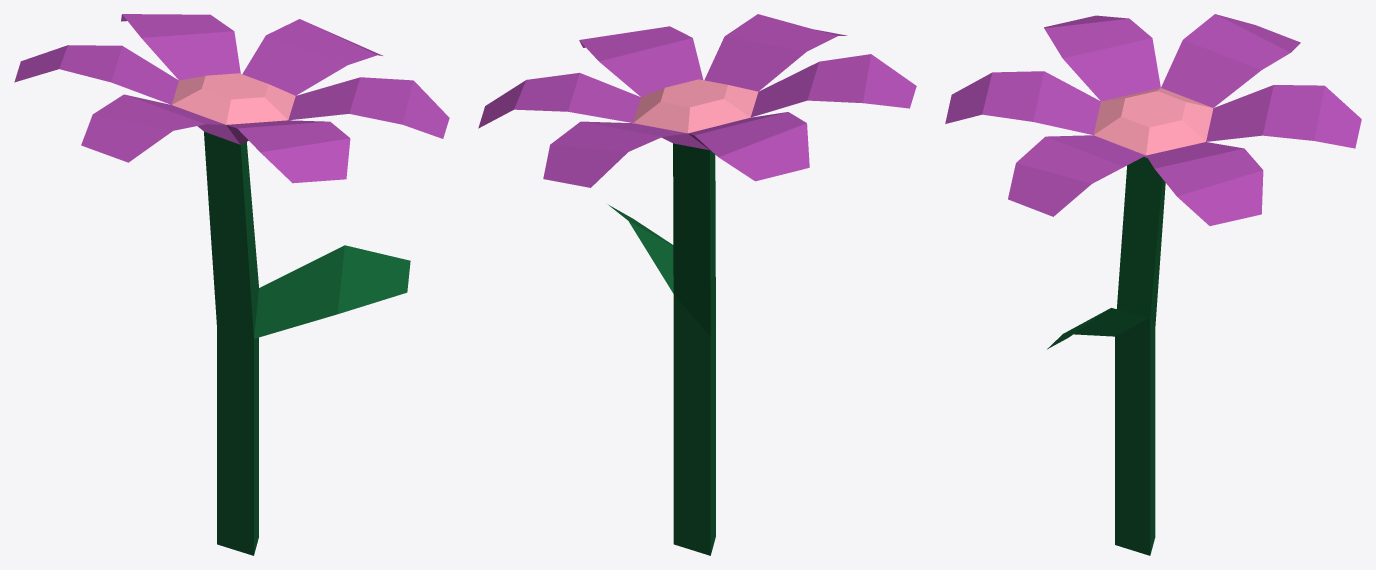
File: flower.glb
3 renders of one model, left to right at view 1: azimuth 30°, elevation 25°; view 2: azimuth 150°, elevation 25°; view 3: azimuth 270°, elevation 25°, orthographic. The views are drawn at different scales.
Visible parts, largest first — view 1: Circle006_Circle007; view 2: Circle006_Circle007; view 3: Circle006_Circle007.
Part boxes in pixels (<box>): Circle006_Circle007: <box>14,14,449,555</box>; Circle006_Circle007: <box>478,14,916,555</box>; Circle006_Circle007: <box>945,14,1361,555</box>.
Size of the model in its own units: 0.5238 by 0.6675 by 0.5432.
